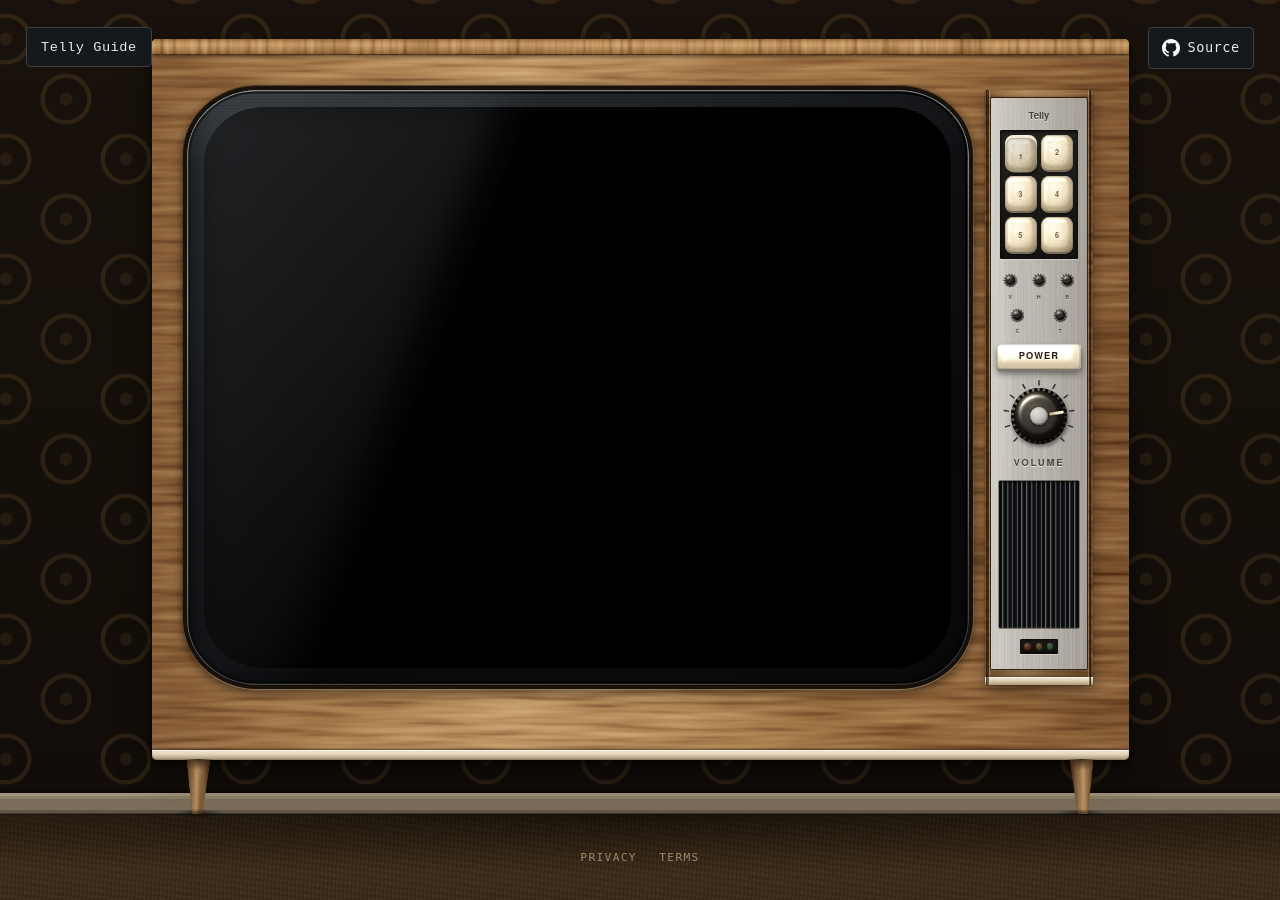
Test: Channel › programming the channels › shows nothing at all while a set that is off programmes for the paper
Click the button "Telly Guide" at [89, 47], box top-left (26, 27), bottom-right (152, 67)
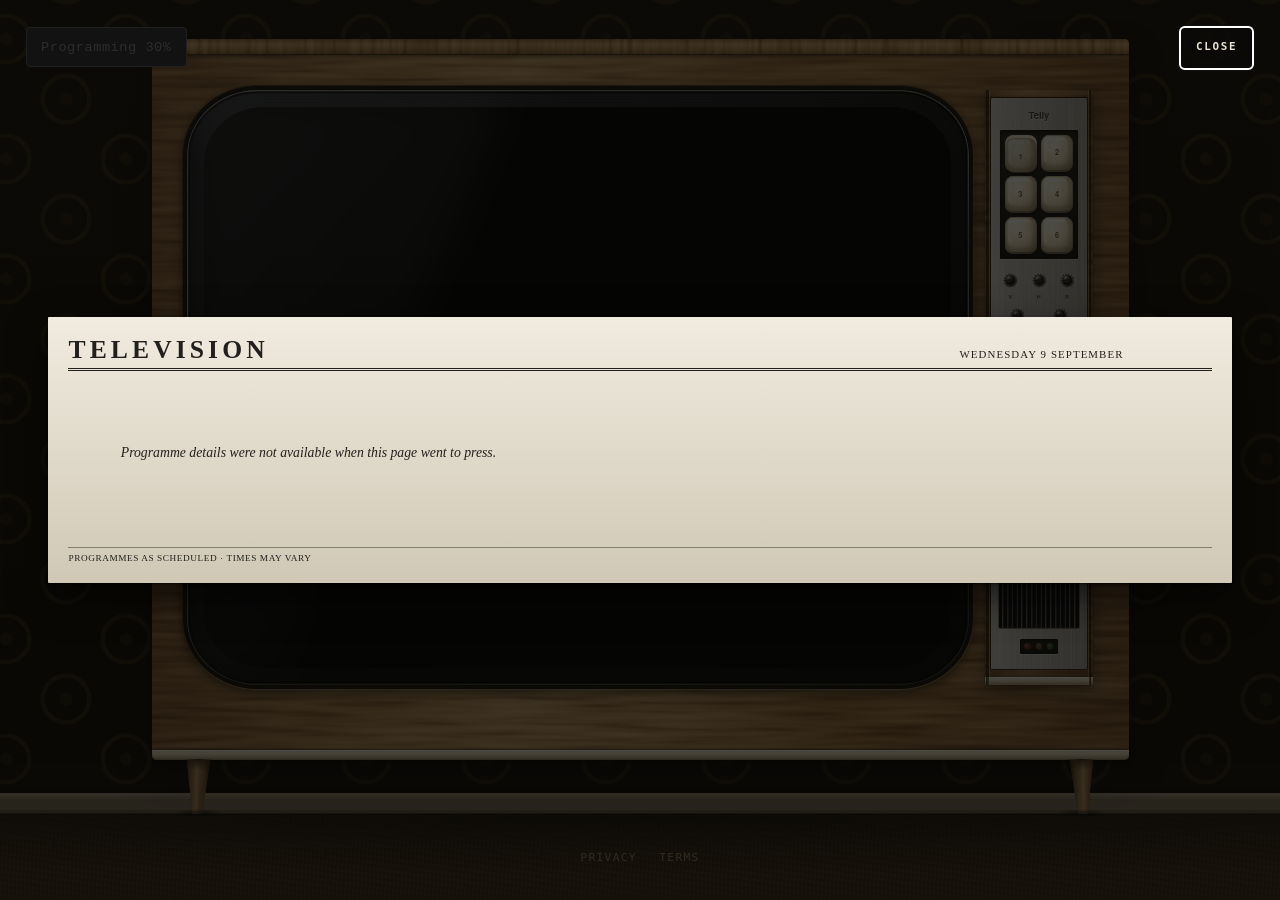
Check: the button "Programming 30%" is disabled, box top-left (26, 27), bottom-right (187, 67)
